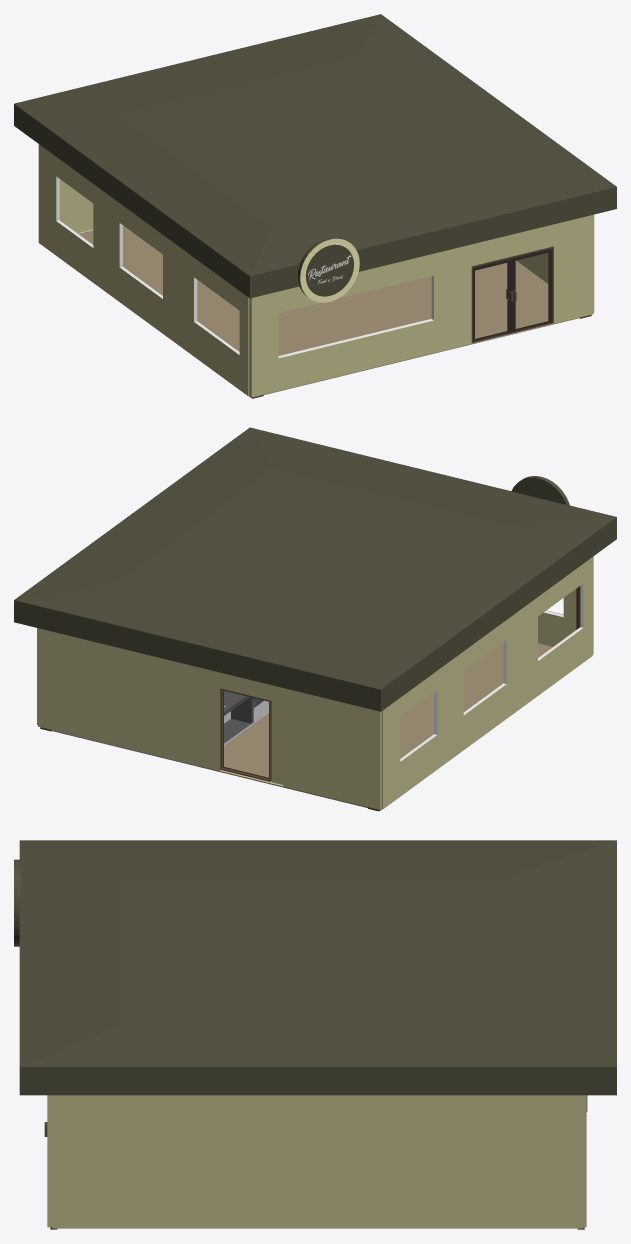
File: Frame_Restaurant.glb
3 views of the same model, one above another, from view 1: azimuth 30°, elevation 25°; view 2: azimuth 150°, elevation 25°; view 3: azimuth 270°, elevation 25° (orthographic). The views are drawn at different scales.
Visible parts, largest first — view 1: Cube.060, wall_2.003, wall_2.001, floor, Cylinder.025, wall_2.002, Cube.033, Cube.034, frame, wall_2; view 2: Cube.060, wall_2.002, wall_2.001, floor, wall_2.003, TableCashier_1, Cylinder.025, frame.001, floor.001; view 3: Cube.060, wall_2, wall_2.003, Cylinder.025, wall_2.002.
Boxes of the visible parts, x1,y1,x2,y2 form: Cube.060: (14, 14, 616, 298); wall_2.003: (249, 214, 593, 397); wall_2.001: (38, 144, 249, 396); floor: (78, 225, 579, 397); Cylinder.025: (298, 236, 359, 302); wall_2.002: (59, 179, 93, 233); Cube.033: (472, 258, 513, 341); Cube.034: (511, 248, 552, 332); frame: (471, 246, 553, 343); wall_2: (516, 215, 594, 311); Cube.060: (14, 427, 616, 711); wall_2.002: (38, 628, 381, 809); wall_2.001: (381, 557, 592, 809); floor: (52, 642, 552, 810); wall_2.003: (538, 556, 593, 654); TableCashier_1: (224, 691, 253, 743); Cylinder.025: (511, 476, 569, 505); frame.001: (220, 688, 271, 781); floor.001: (51, 700, 268, 766); Cube.060: (19, 840, 616, 1095); wall_2: (52, 1095, 583, 1228); wall_2.003: (47, 1095, 52, 1227); Cylinder.025: (14, 859, 20, 946); wall_2.002: (583, 1095, 586, 1227).
Bounding box in the file's own units: 9.42 × 3.89 × 10.6.
